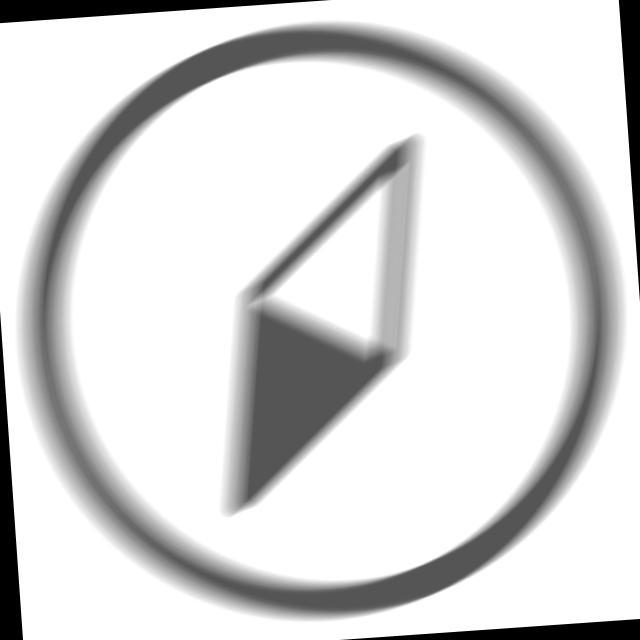compass: (1, 1, 640, 640)
